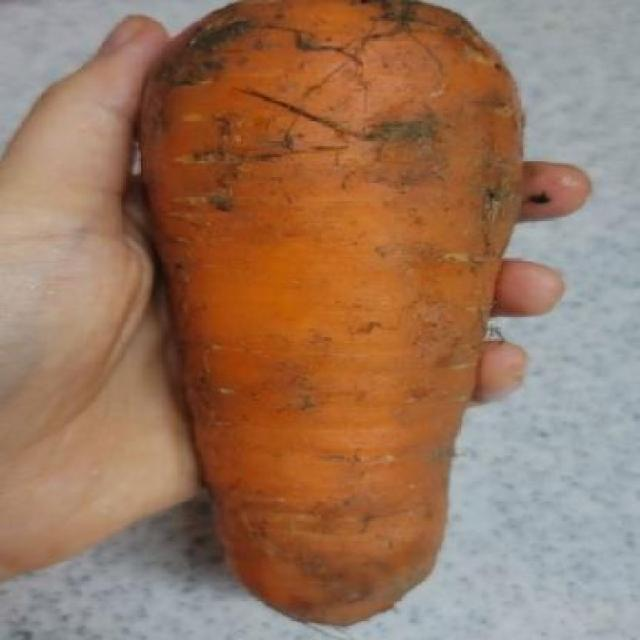carrot: (119, 1, 538, 628)
